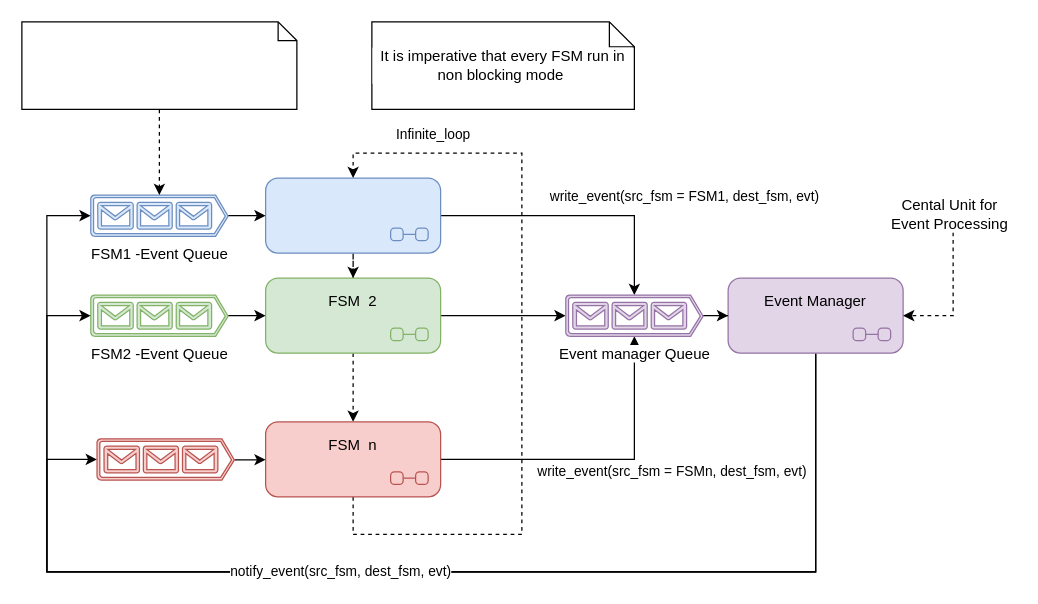
The diagram is 1038 pixels wide and 604 high, and some of its shapes have lost their labels. The box of each missing label's shape, as (x1, y1, x2, y2) in pixels:
FSM 1: (264, 177, 441, 253)
FSMn -Event Queue: (96, 438, 234, 480)
The events can be of type: time_event external_event irq_event: (21, 21, 297, 109)
